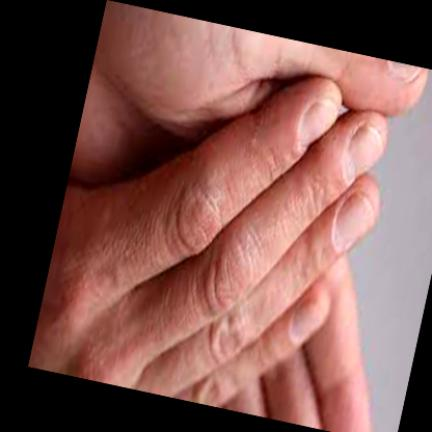Nail: (344, 126, 384, 182), (335, 193, 374, 250), (301, 100, 338, 146), (292, 297, 325, 338)
